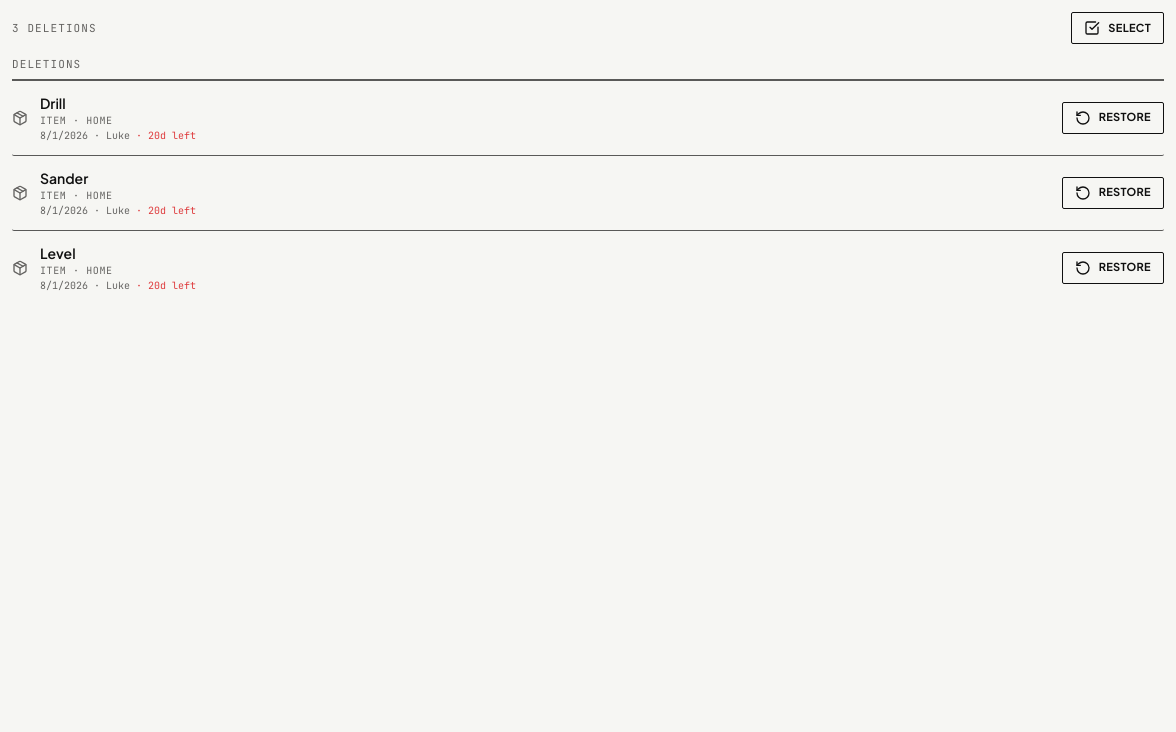
Select turns on checkboxes; a row toggles selection and the bar tracks the count
The width and height of the screenshot is (1176, 732).
Expected: the text "Drill" is shown, [40, 94, 66, 112]
Click the button "Select". click: (1118, 28)
box: [1071, 12, 1164, 44]
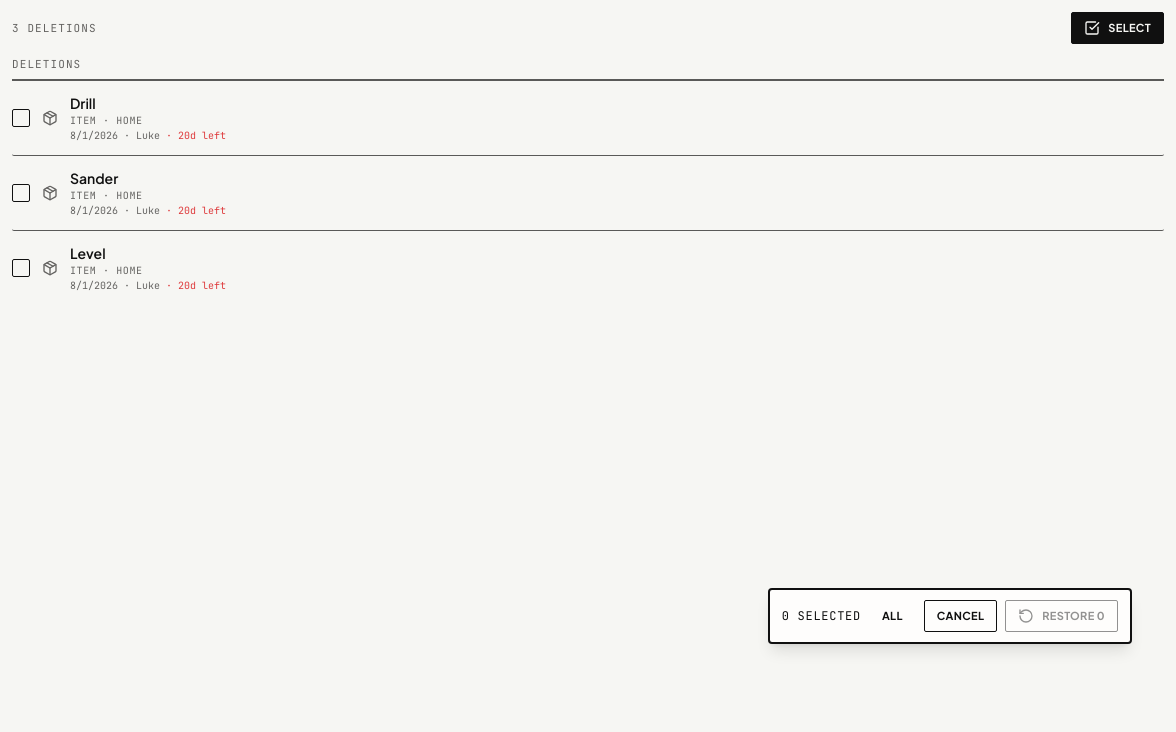
Click the button with aria-label "Select Drill". click: (120, 120)
box: [12, 80, 1164, 156]
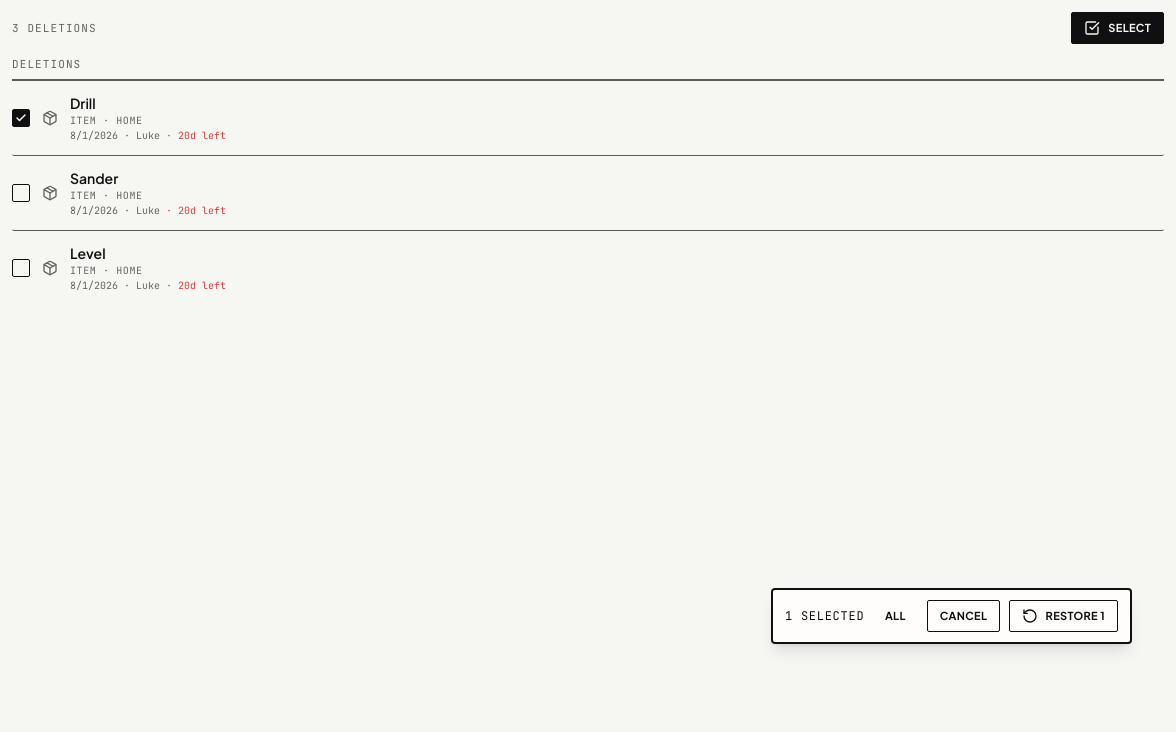
Now the text "1 selected" is shown, box [785, 608, 864, 624]
Click the button "All". click: (896, 616)
box: [872, 600, 919, 632]
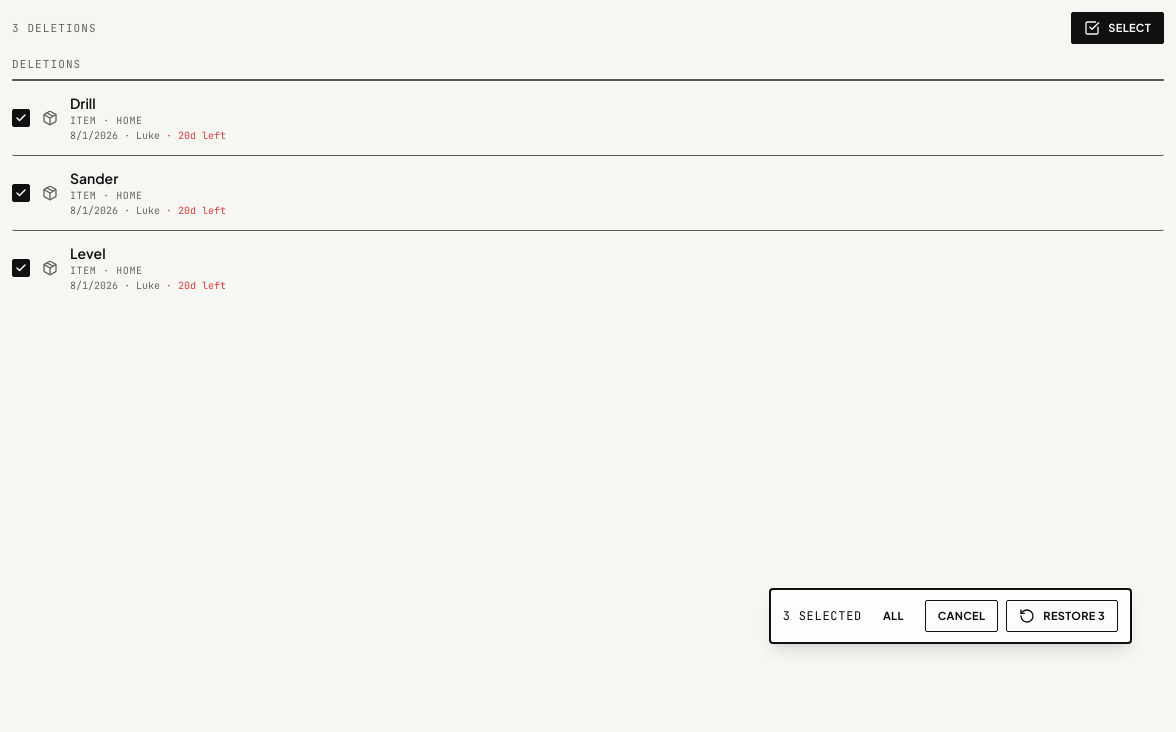
Now the text "3 selected" is shown, box [783, 608, 862, 624]
